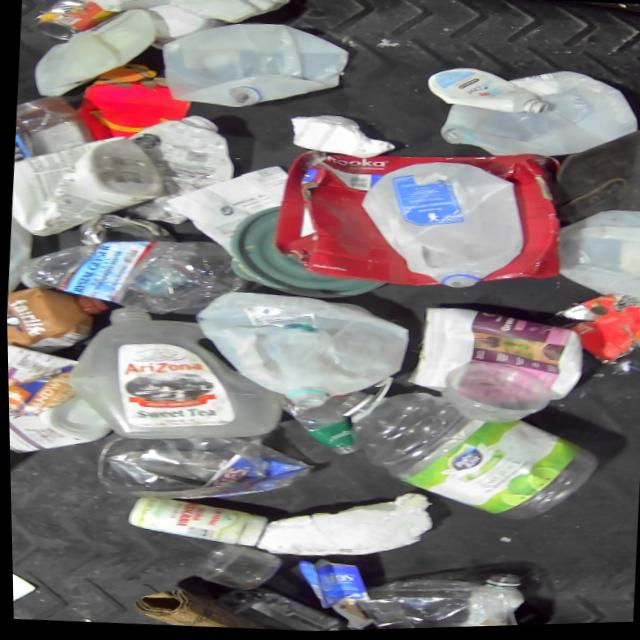can: (32, 0, 120, 44)
milk_jug: (58, 297, 290, 452), (186, 283, 414, 418), (351, 154, 530, 296), (434, 61, 640, 169), (155, 13, 355, 119), (27, 0, 160, 105), (549, 206, 640, 304), (3, 199, 38, 310)
plastic_bottle: (321, 383, 605, 533), (14, 225, 252, 322), (207, 582, 369, 635)
